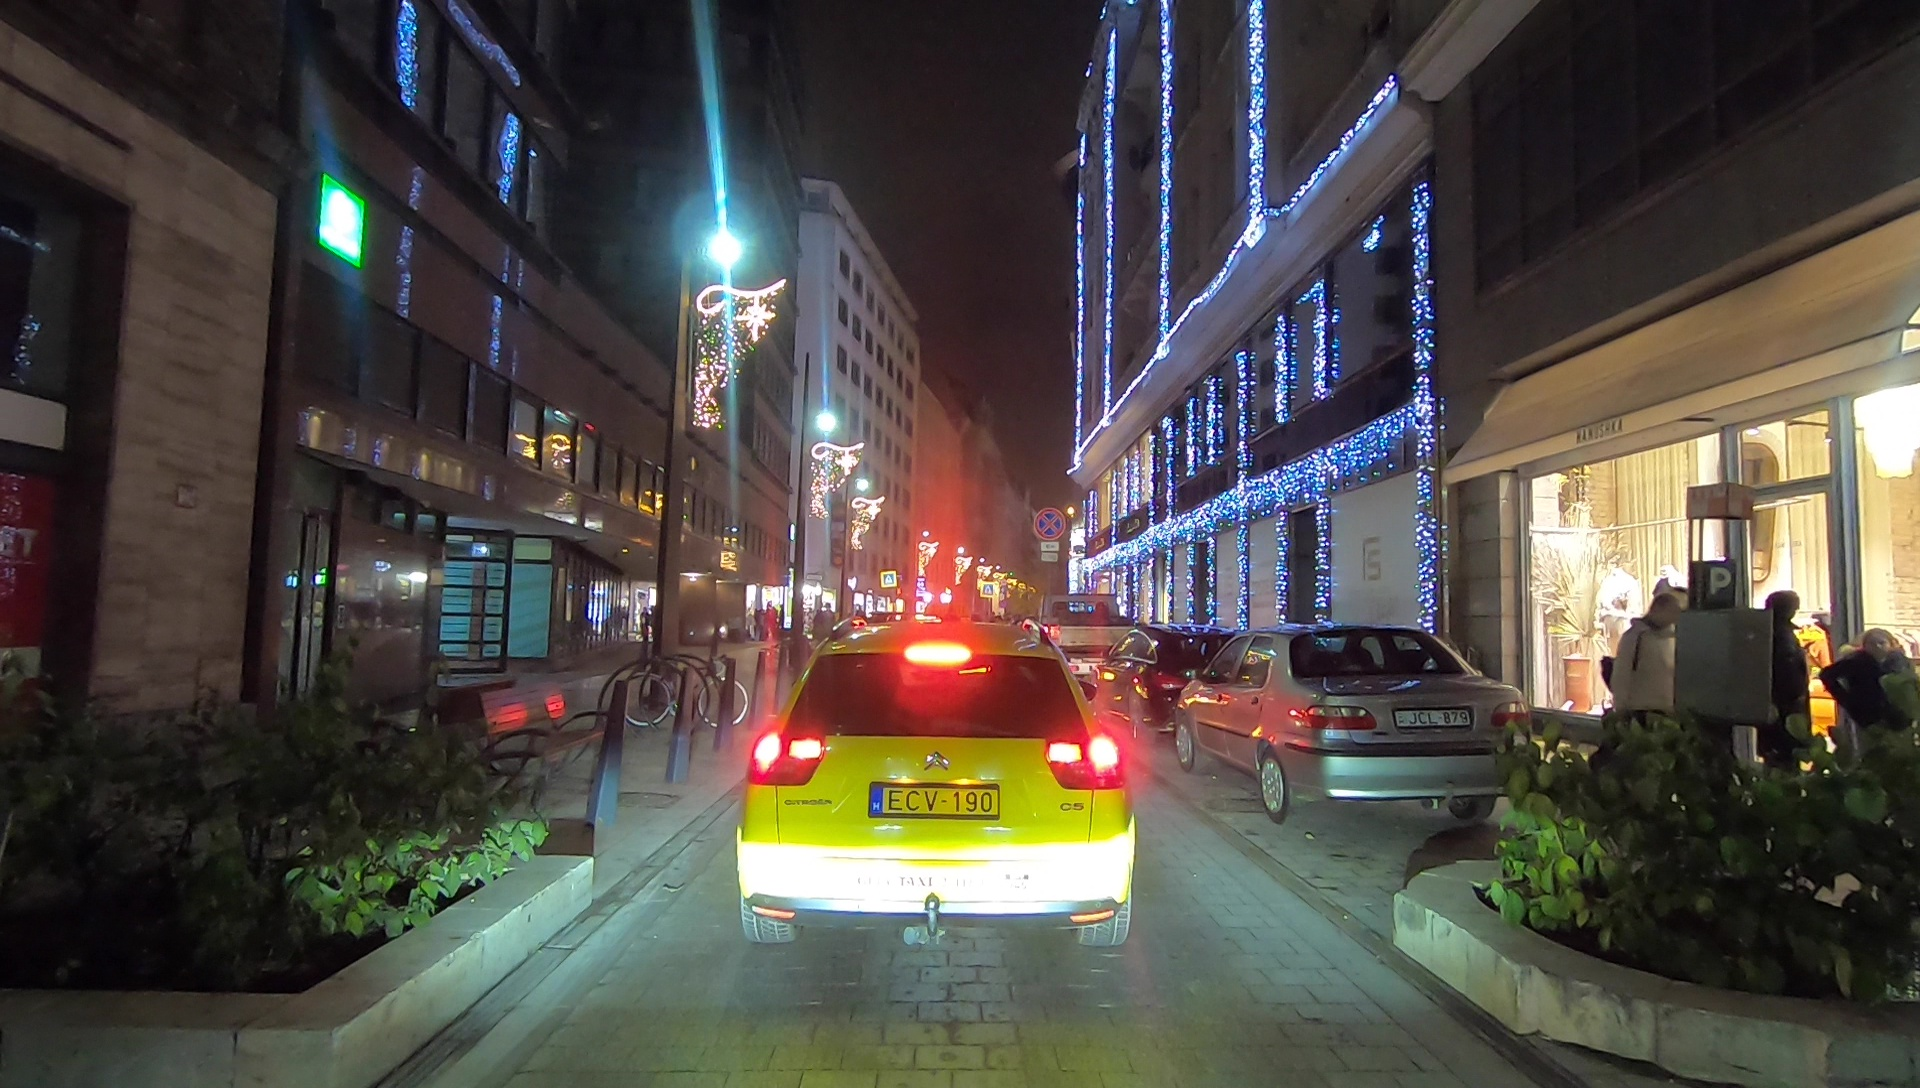person: (1601, 586, 1689, 826), (1749, 586, 1825, 810), (1826, 624, 1915, 795)
